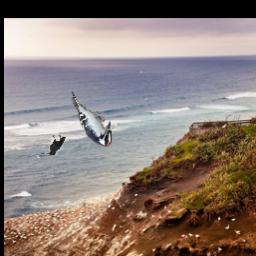Crow: (46, 134, 67, 155)
Woodpecker: (70, 89, 112, 147)
